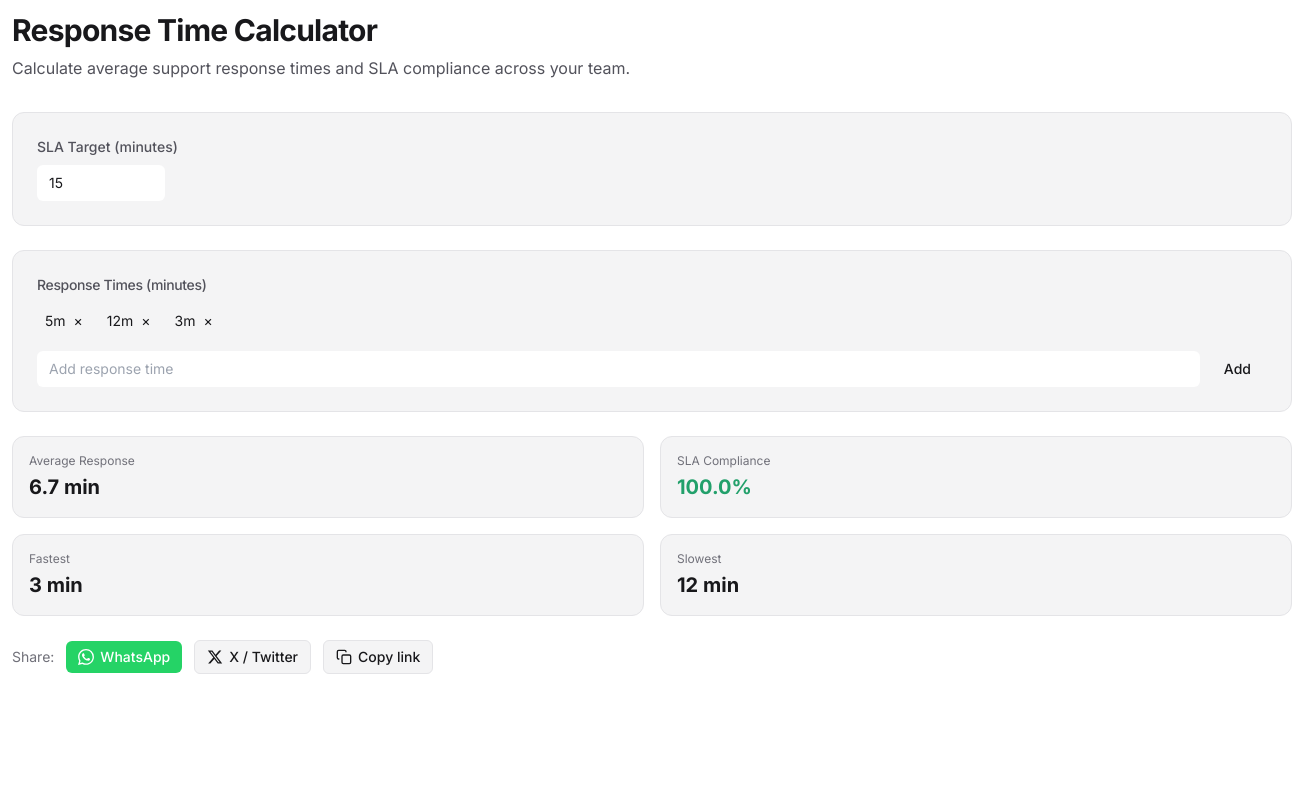
Test: ResponseTimeCalculator › removes an entry
Click the 1st button "×": (78, 321) [74,311,83,331]
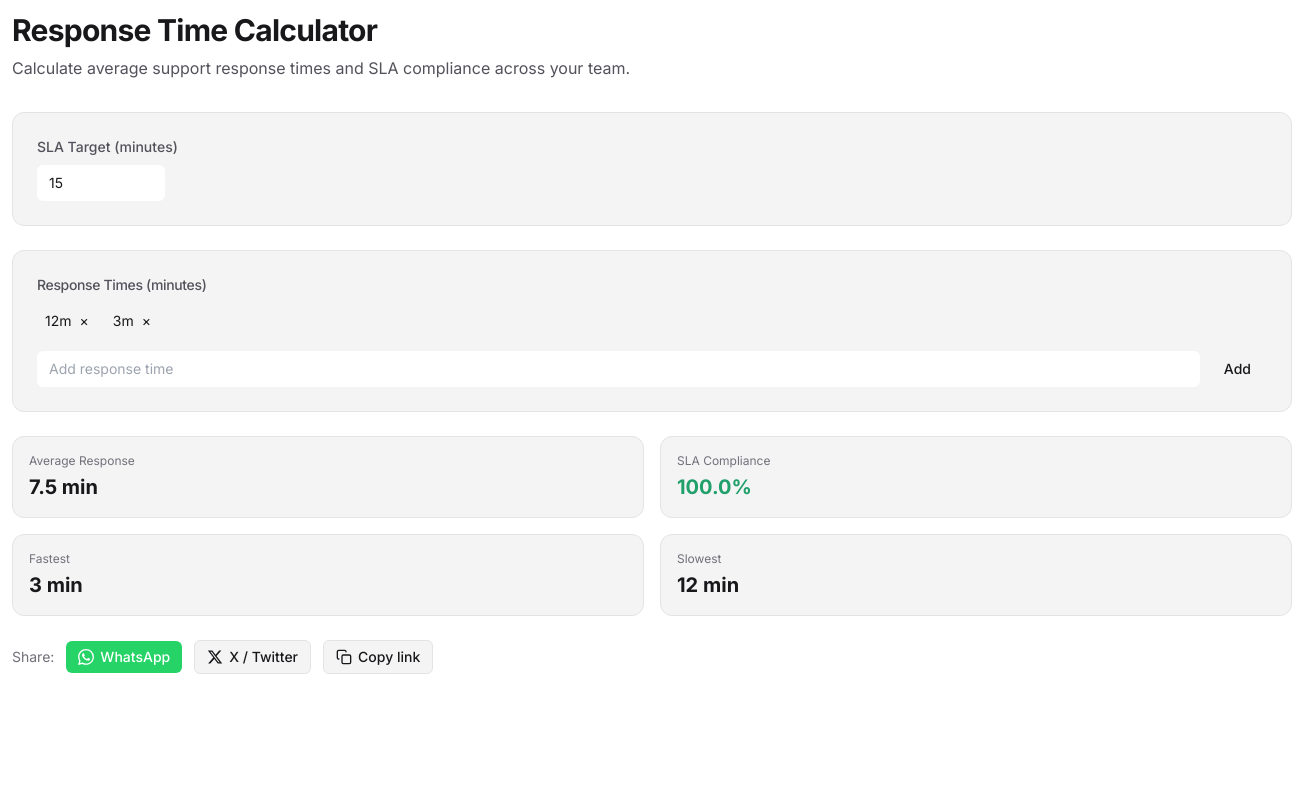
Result: the text "5m" is gone
